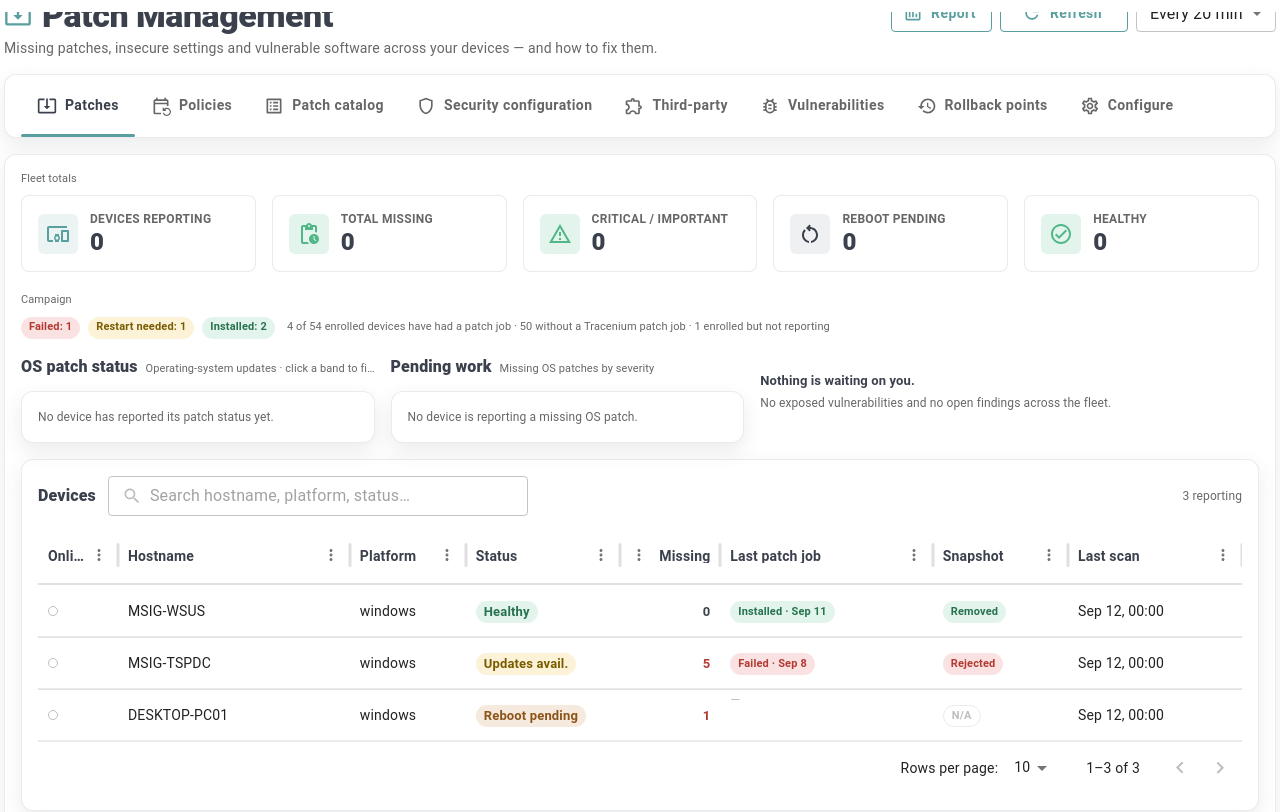
Test: Patch Management — las tarjetas filtran la tabla de equipos › ⭐ «Reboot pending» deja sólo los equipos con reinicio pendiente, y lo dice
(page scrolled)
Check: the text "MSIG-WSUS" is shown, box left=118, top=585, right=350, bottom=637
Click the button "Reboot pending 0": {"x": 891, "y": 234} left=773, top=195, right=1008, bottom=272
(page scrolled)
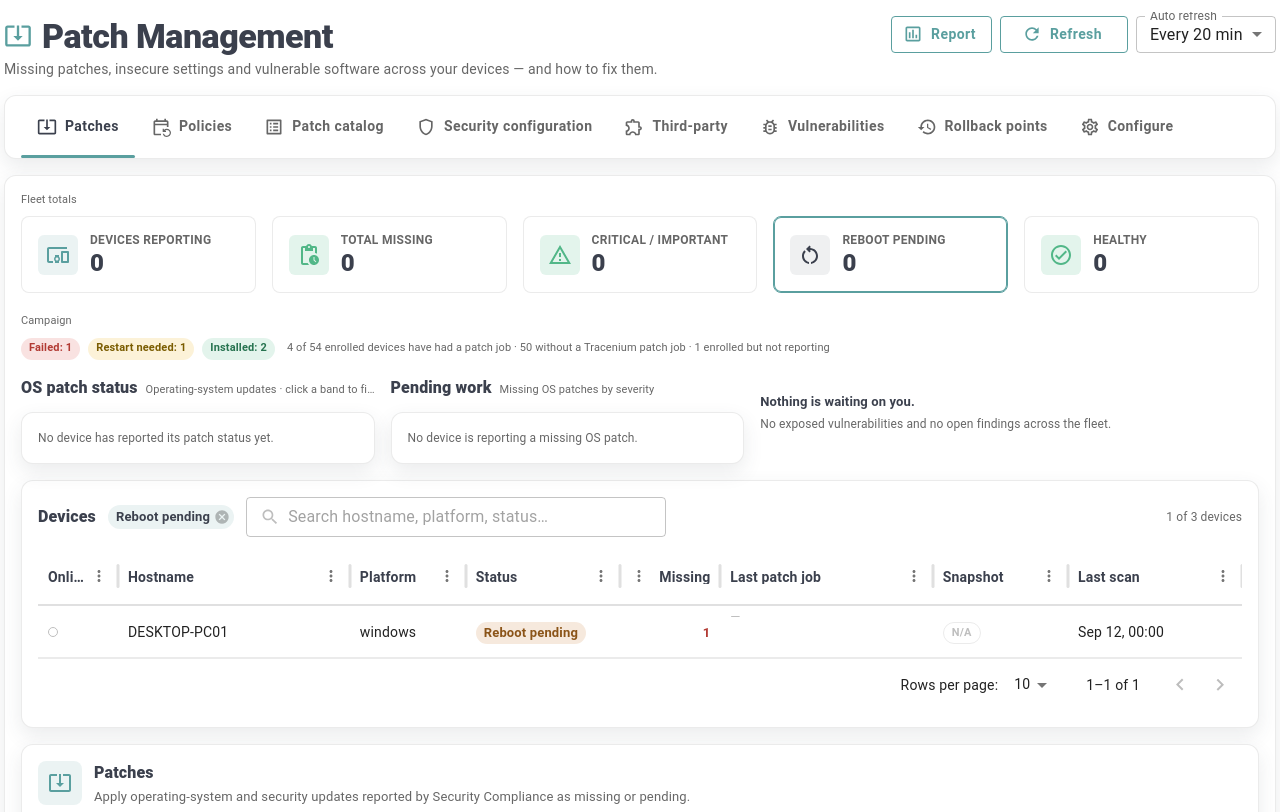
Check: the text "1 of 3 devices" is shown, box left=1166, top=508, right=1242, bottom=526
